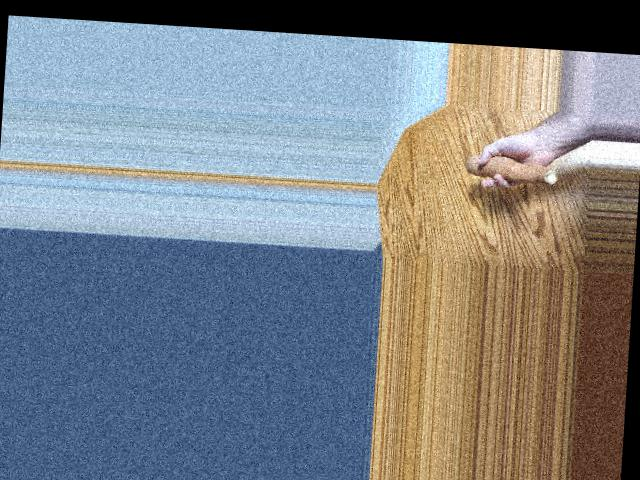sweet_potato: (459, 158, 562, 188)
